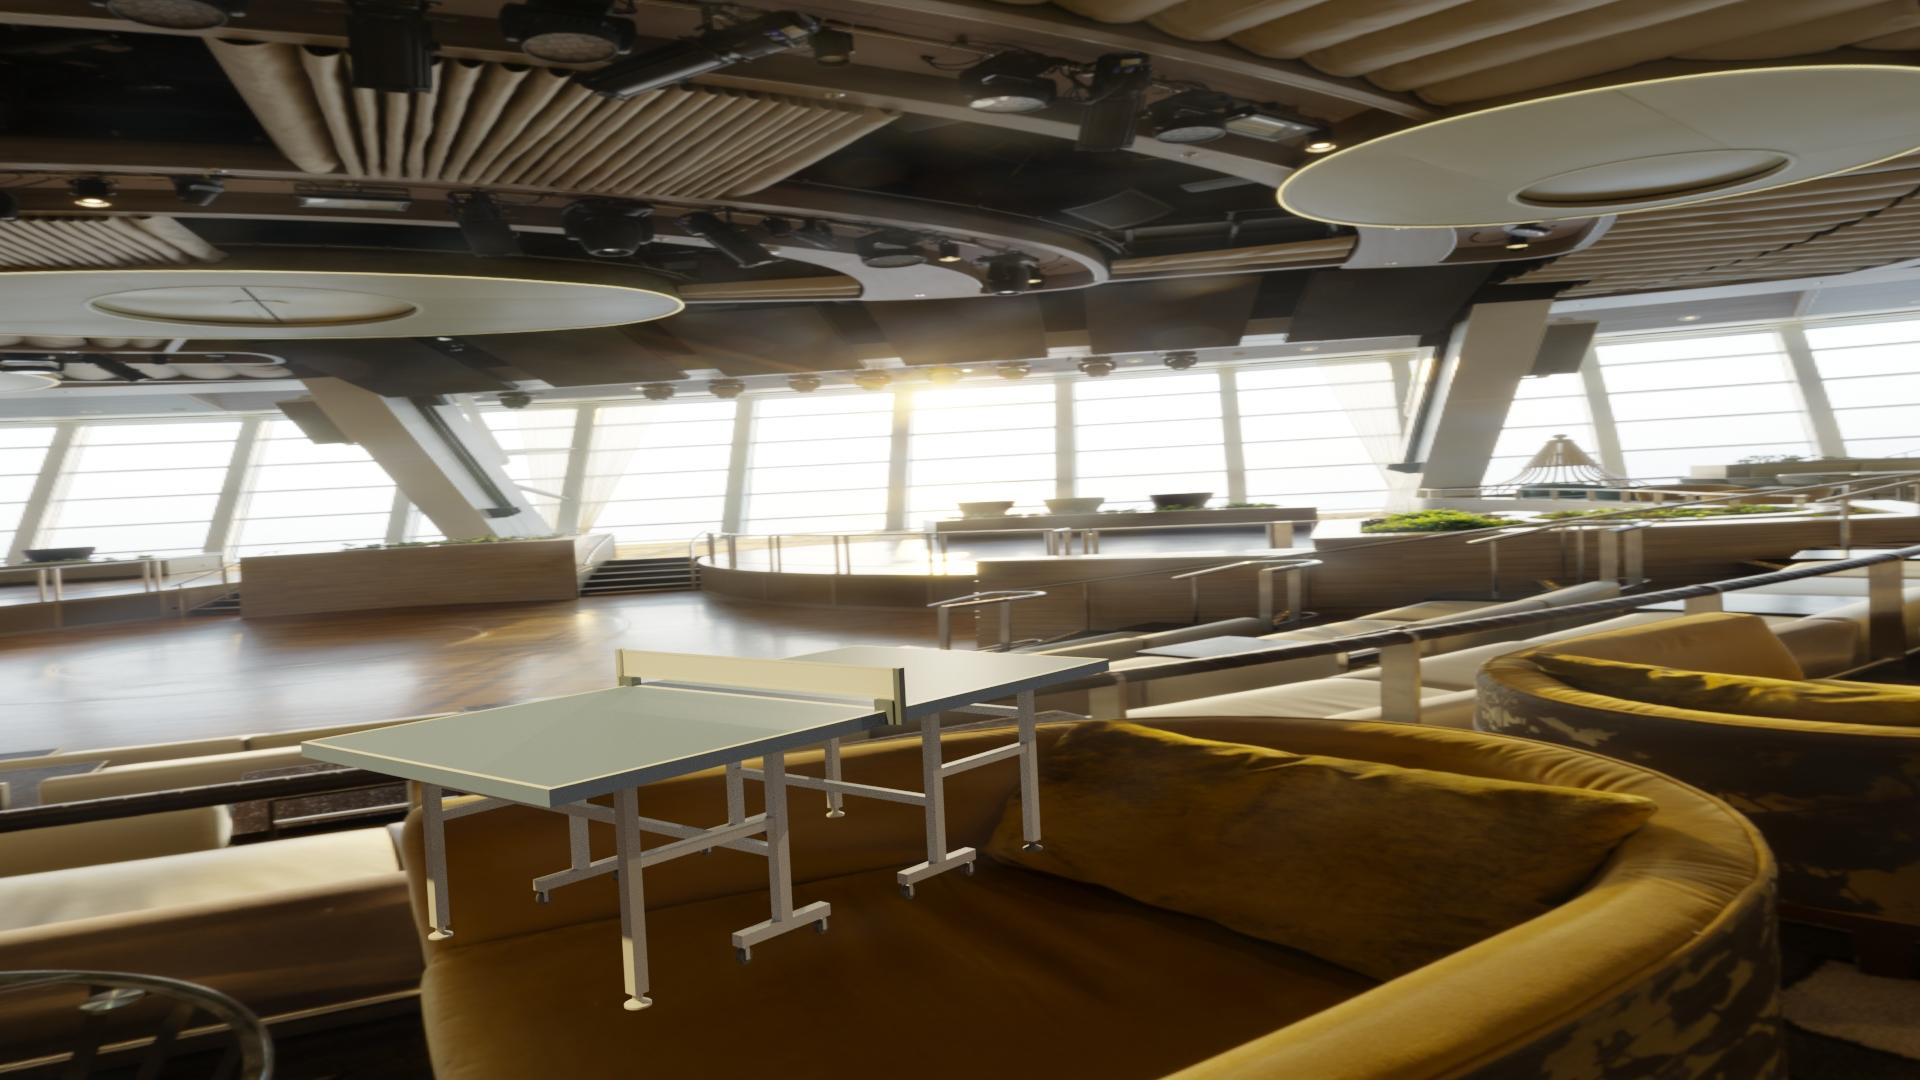table: (309, 646, 1102, 787)
